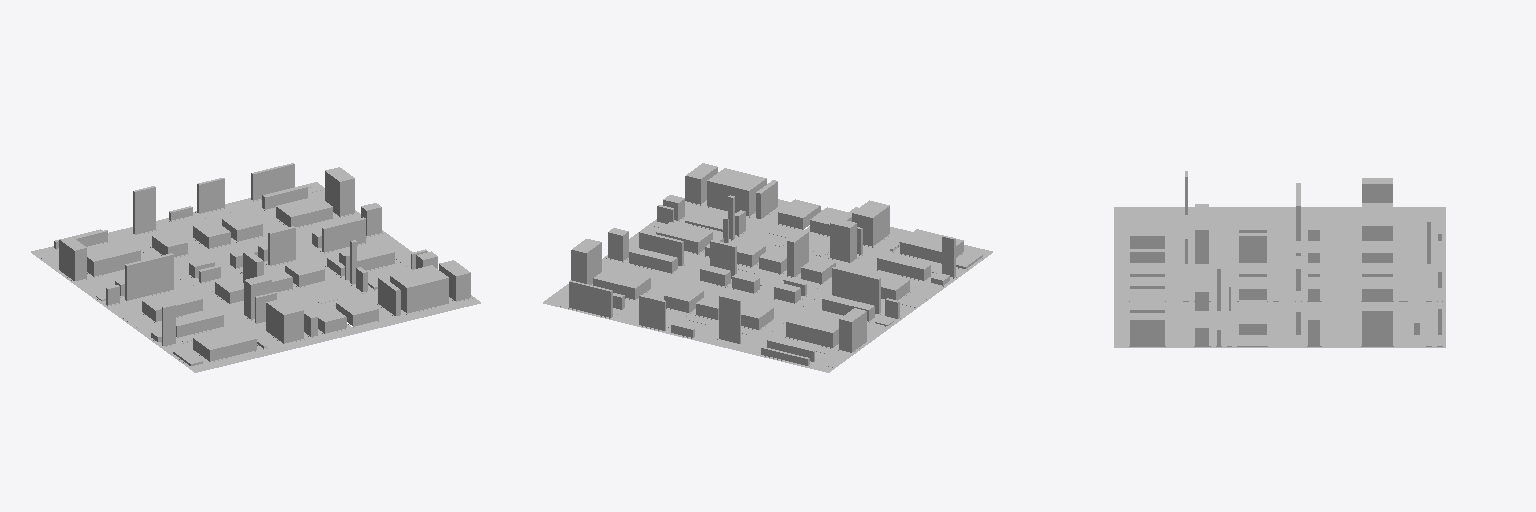
The model's file is city.obj.
3 renders of one model, left to right at view 1: azimuth 30°, elevation 25°; view 2: azimuth 150°, elevation 25°; view 3: azimuth 270°, elevation 25°, orthographic.
Parts seen in each view (by area): view 1: pPlane1; view 2: pPlane1; view 3: pPlane1.
Boxes of the visible parts, x1=… form: pPlane1: x1=31, y1=163, x2=480, y2=372; pPlane1: x1=543, y1=163, x2=992, y2=372; pPlane1: x1=1114, y1=171, x2=1445, y2=347.
Bounding box in the file's own units: 2035 × 292 × 2035.